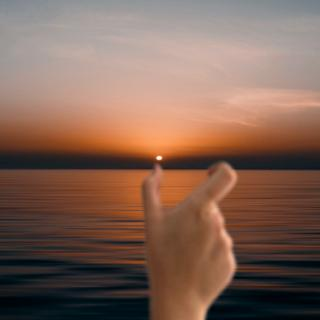Irritated: (134, 157, 243, 316)
